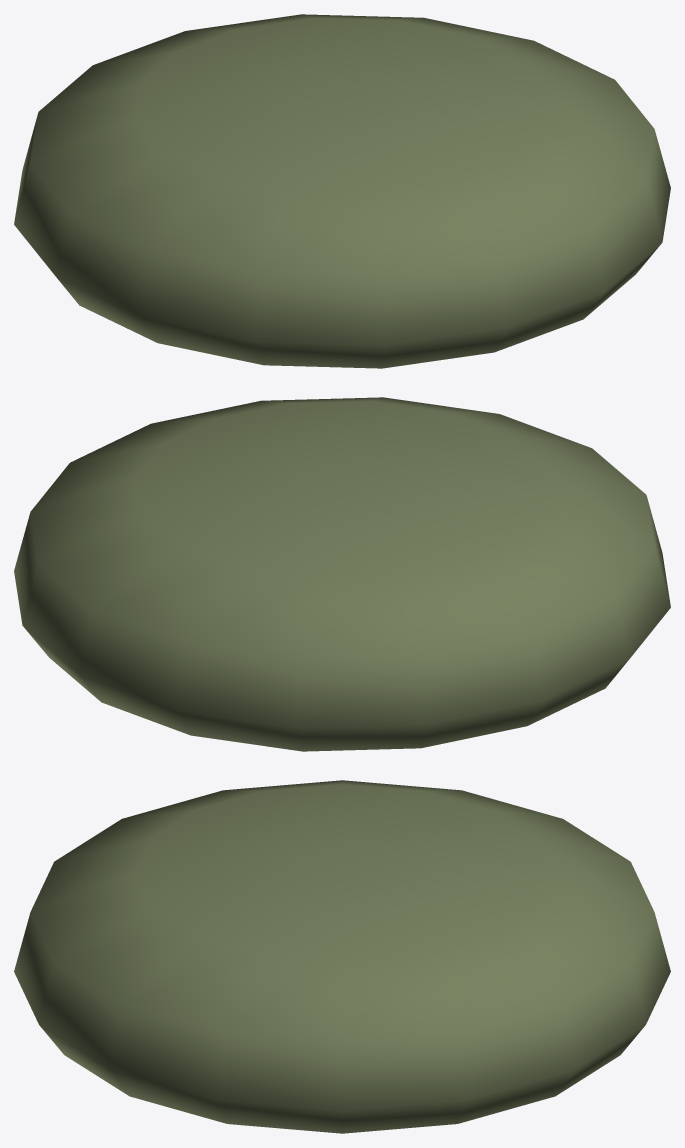
The model's file is reading_cushion.glb.
The picture shows the model from 3 angles, top to bottom: view 1: azimuth 30°, elevation 25°; view 2: azimuth 150°, elevation 25°; view 3: azimuth 270°, elevation 25°; orthographic projection.
Visible parts, largest first — view 1: Body; view 2: Body; view 3: Body.
Part boxes in pixels (x1,y1,x2,y2): Body: [14, 14, 670, 368]; Body: [14, 397, 670, 751]; Body: [14, 780, 670, 1133].
Bounding box in the file's own units: 0.6 × 0.16 × 0.6.
